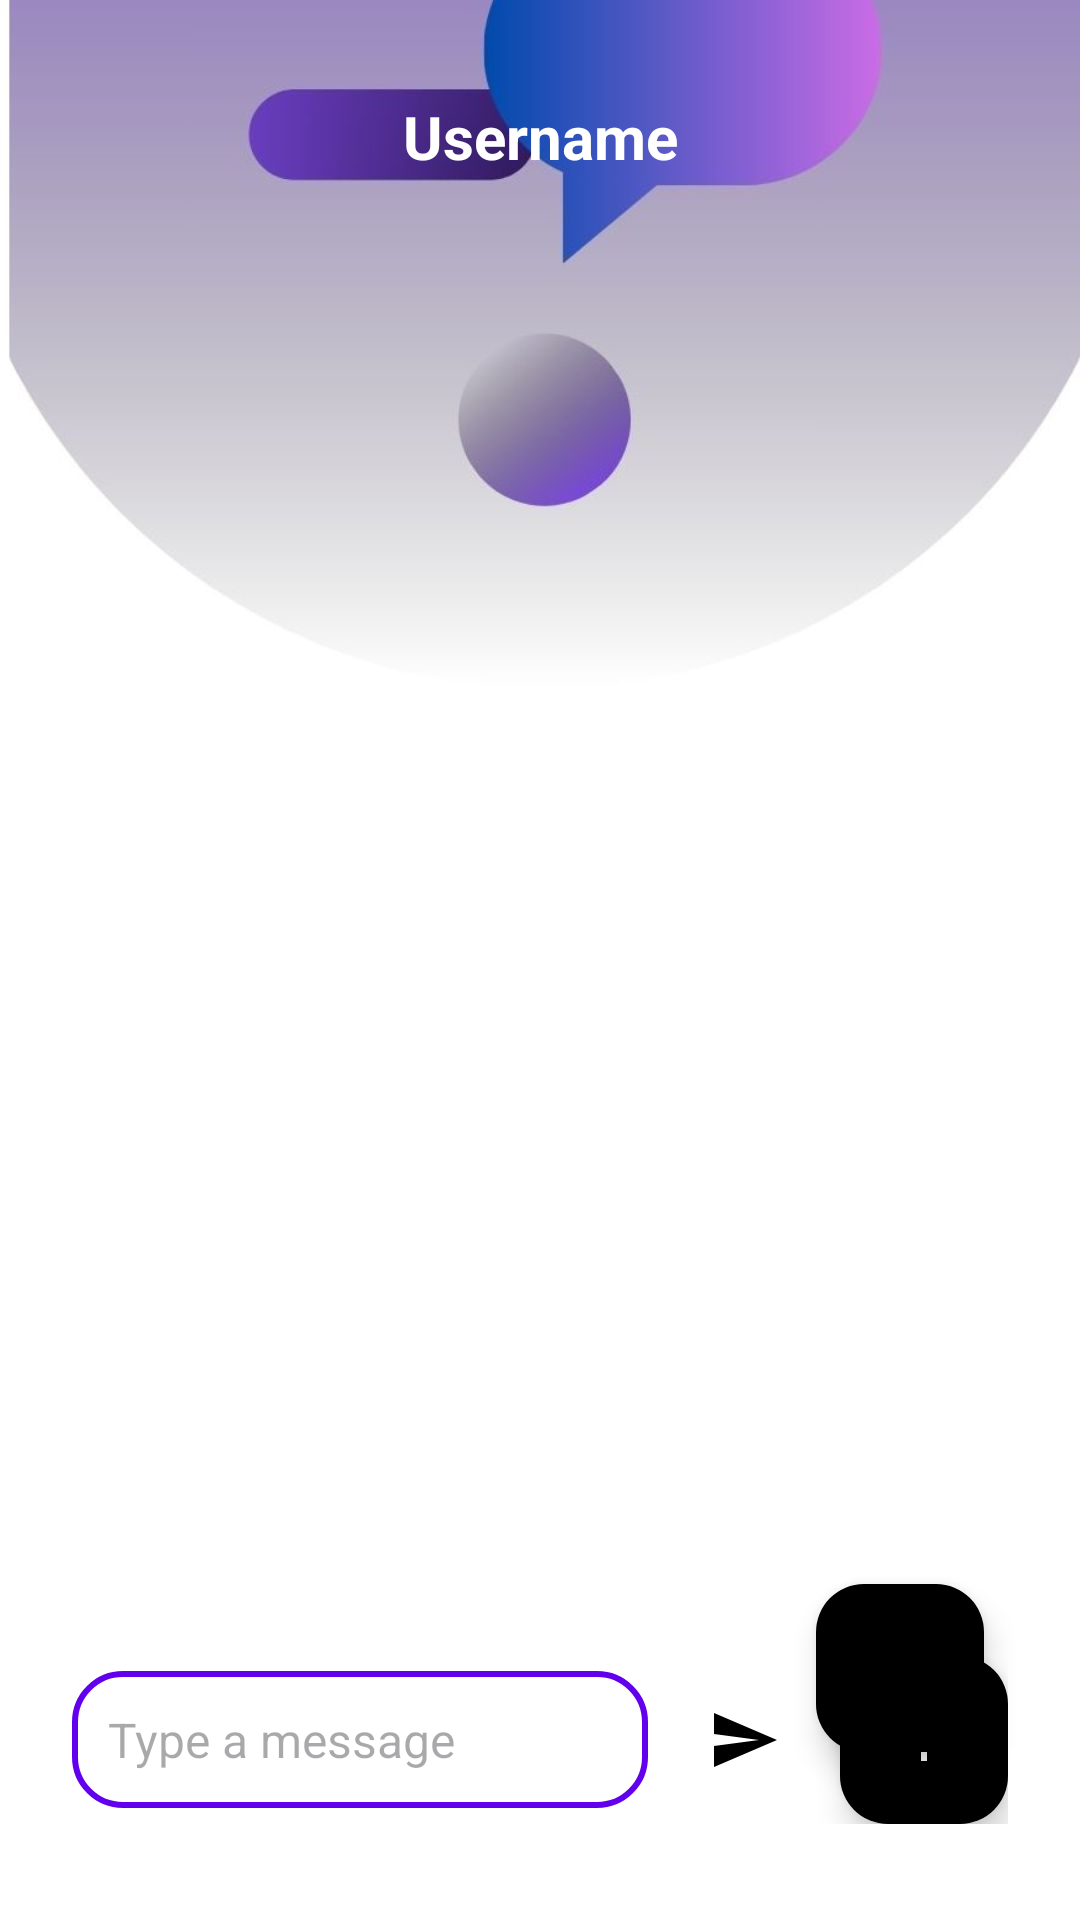

Icons on this 1080×1920 Android screen, each with its box as (x1, y1, x2, y2):
send: (714, 1713, 777, 1767)
